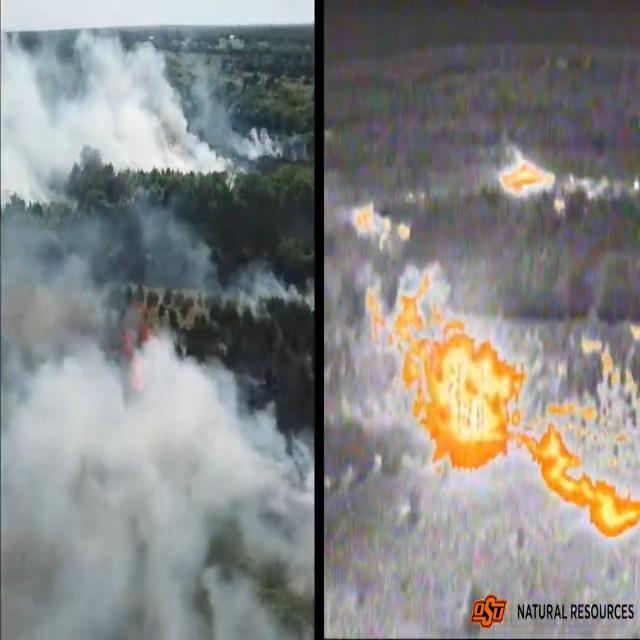fire: (366, 270, 527, 472), (526, 321, 640, 542), (498, 150, 558, 201), (353, 200, 413, 250)
